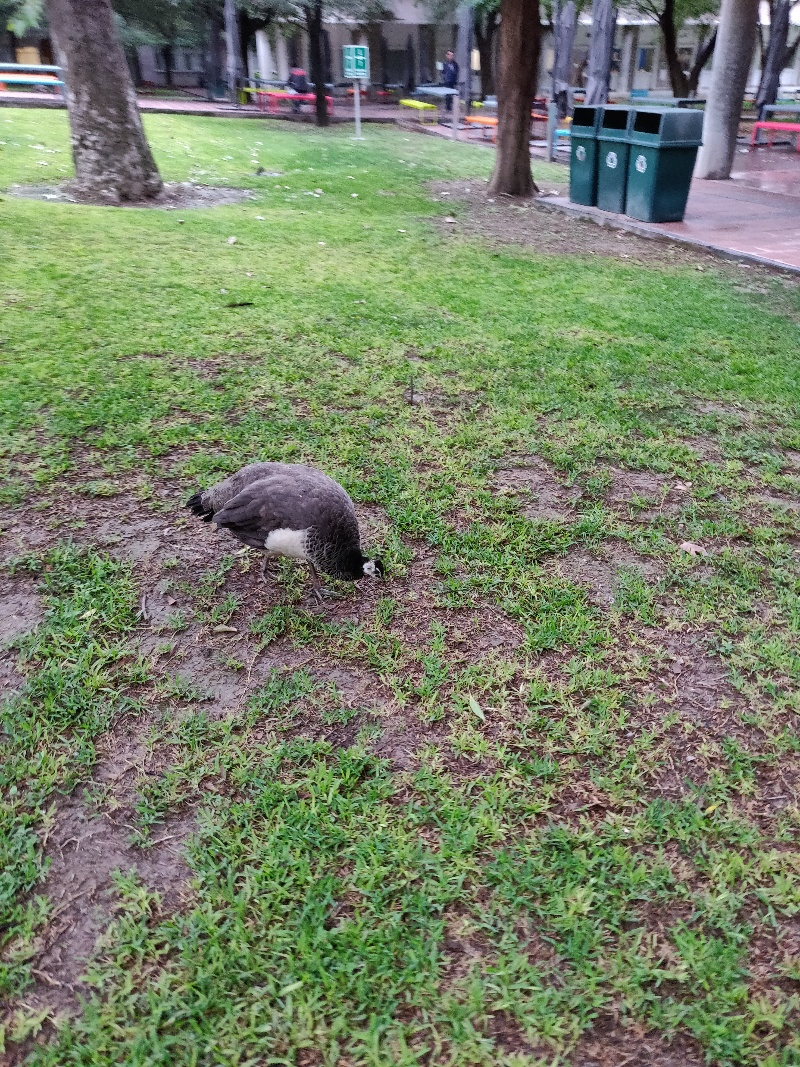pavoreal: (189, 447, 386, 600)
